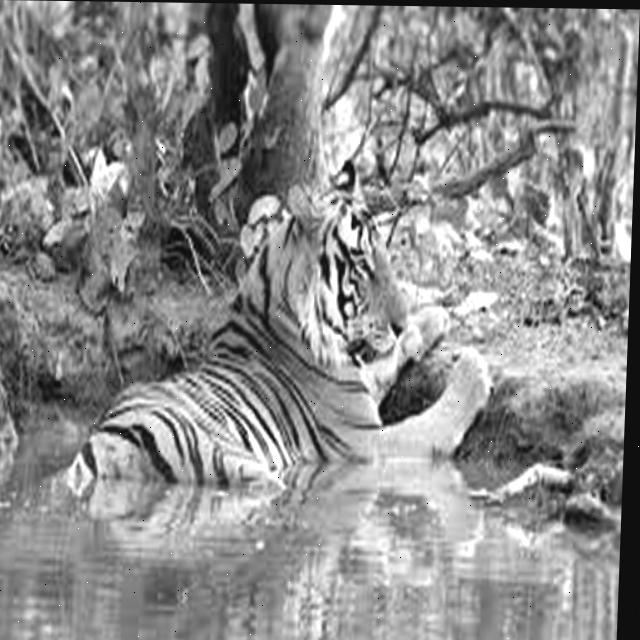Tiger: (52, 154, 500, 505)
